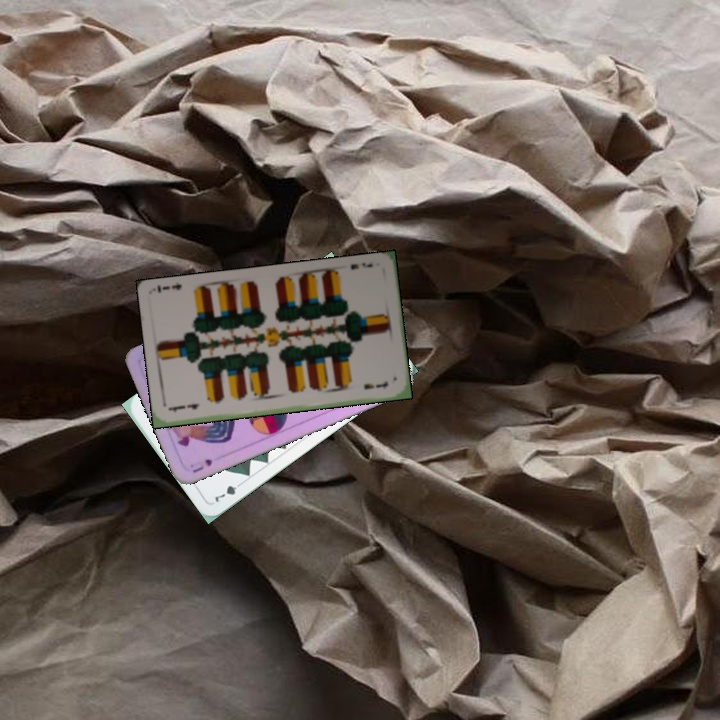E7: (166, 399, 202, 414), (346, 258, 375, 272)
G7: (211, 477, 246, 505)
SU: (186, 455, 215, 475)
